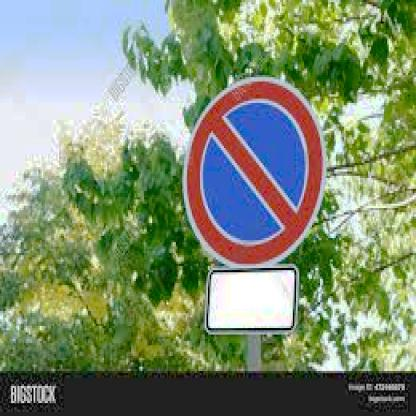No parking: (182, 74, 327, 272)
